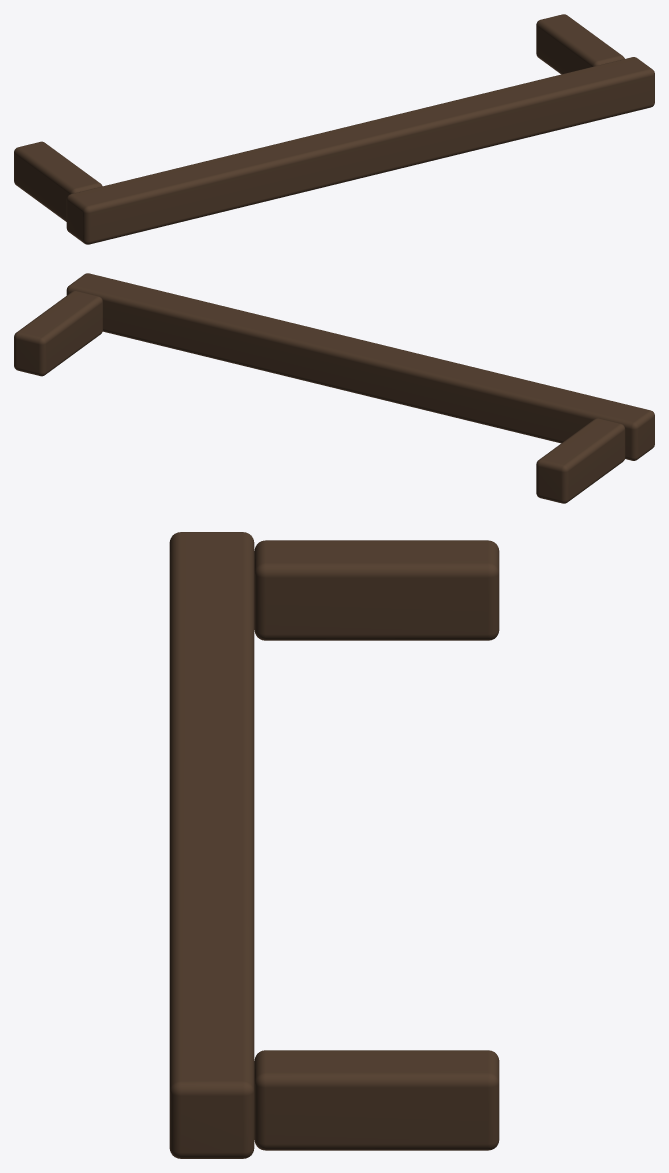
Rendered from eurofit-h-463-128orb.glb.
3 views of the same model, one above another, from view 1: azimuth 30°, elevation 25°; view 2: azimuth 150°, elevation 25°; view 3: azimuth 270°, elevation 25° (orthographic). The views are drawn at different scales.
Parts seen in each view (by area): view 1: Rectangular grip, Mounting standoff, Mounting standoff.001; view 2: Rectangular grip, Mounting standoff, Mounting standoff.001; view 3: Rectangular grip, Mounting standoff, Mounting standoff.001.
Part boxes in pixels (x1,y1,x2,y2): Rectangular grip: (66,57,654,244); Mounting standoff: (14,141,102,221); Mounting standoff.001: (536,14,624,74); Rectangular grip: (66,273,654,460); Mounting standoff: (536,418,625,503); Mounting standoff.001: (14,291,102,376); Rectangular grip: (169,532,254,1158); Mounting standoff: (254,540,499,640); Mounting standoff.001: (254,1050,499,1150).
Size of the model in its own units: 0.14 by 0.009 by 0.035.
